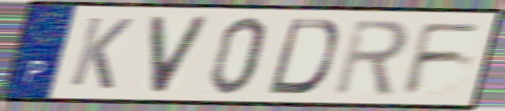0: (206, 14, 271, 97)
D: (263, 17, 342, 97)
F: (399, 21, 487, 97)
K: (65, 15, 137, 92)
R: (331, 17, 412, 98)
V: (147, 14, 213, 95)
